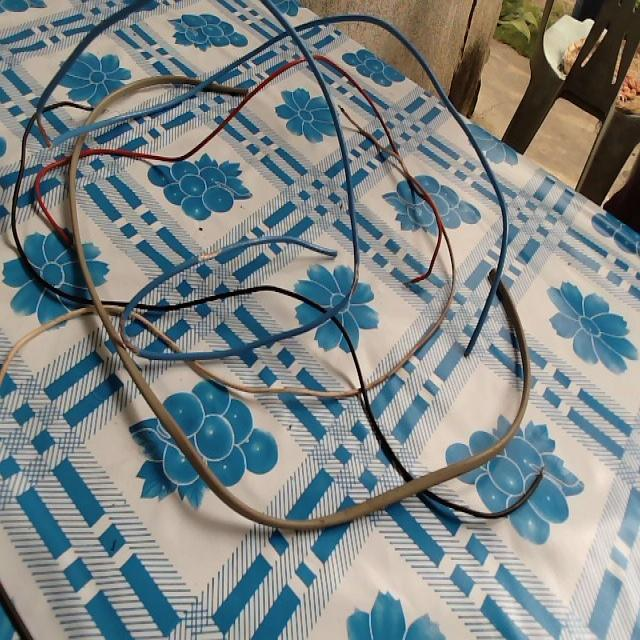-: (115, 312, 140, 360), (32, 113, 54, 151), (348, 256, 362, 305), (199, 247, 221, 265), (336, 99, 346, 116)
